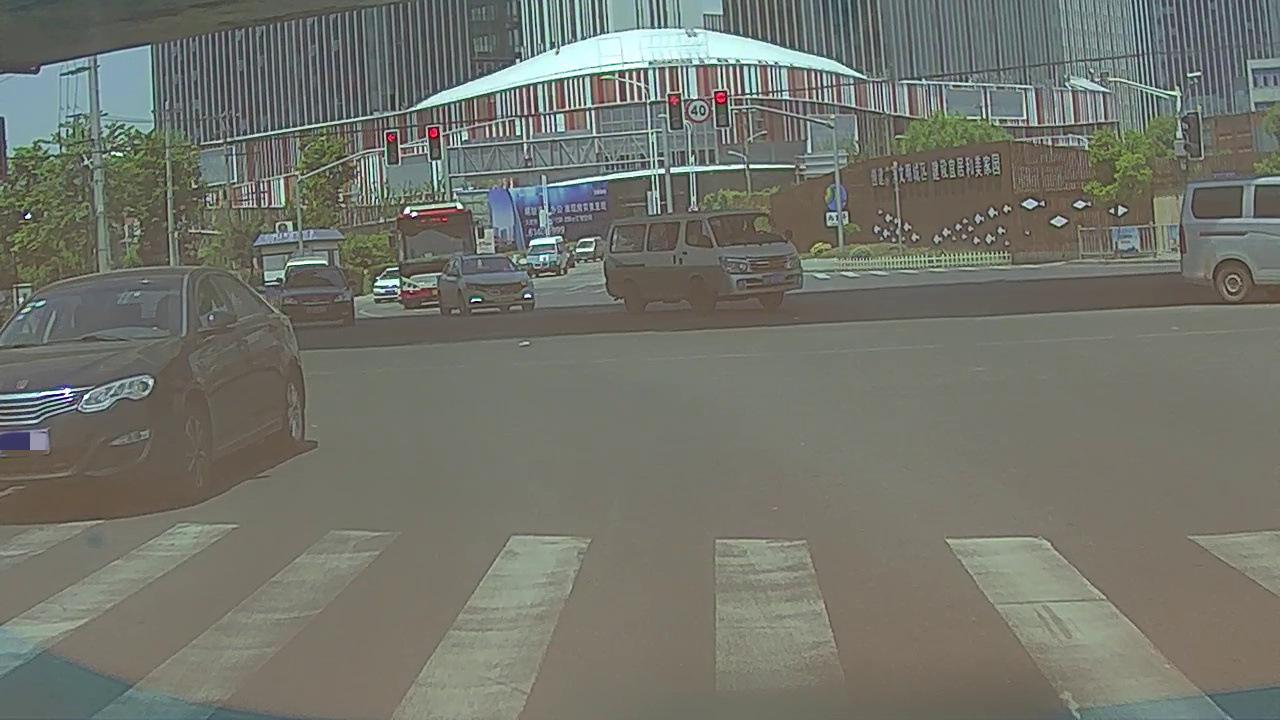traffic_light: (712, 90, 730, 127), (426, 126, 441, 160), (668, 94, 682, 130), (385, 132, 399, 165)
